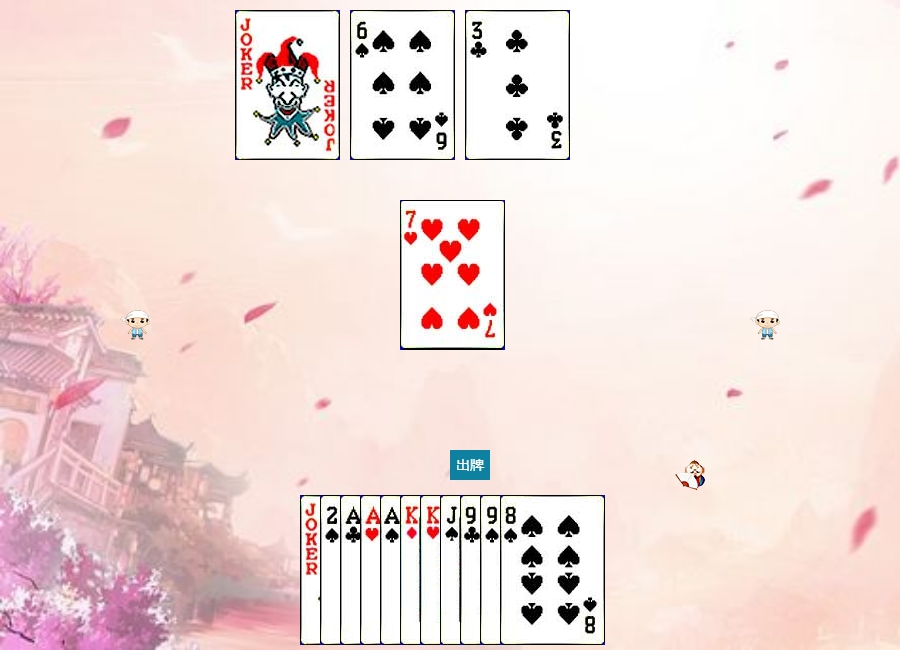11~4: (440, 495, 545, 645)
13~1: (400, 495, 505, 645)
13~3: (420, 495, 525, 645)
14~2: (340, 495, 445, 645)
14~3: (360, 495, 465, 645)
14~4: (380, 495, 485, 645)
15~4: (320, 495, 425, 645)
18~4: (235, 10, 340, 160), (300, 495, 405, 645)
3~2: (465, 10, 570, 160)
6~4: (350, 10, 455, 160)
7~3: (400, 200, 505, 350)
8~4: (500, 495, 605, 645)
9~2: (460, 495, 565, 645)
9~4: (480, 495, 585, 645)
